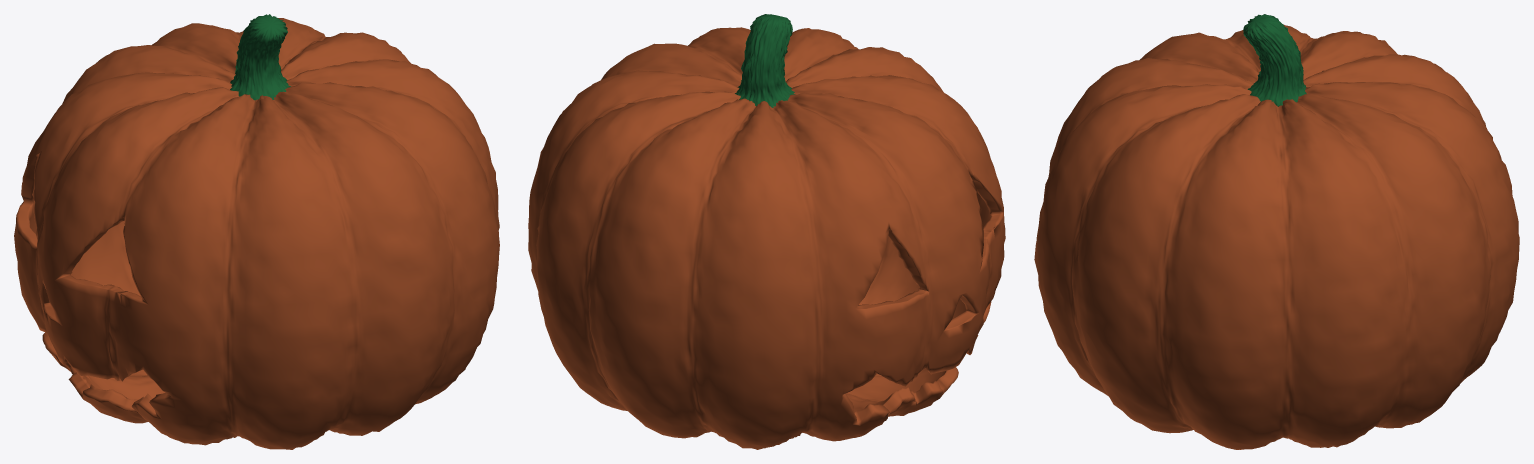
Rendered from pumpkin1K.fbx.
The picture shows the model from 3 angles, left to right: view 1: azimuth 30°, elevation 25°; view 2: azimuth 150°, elevation 25°; view 3: azimuth 270°, elevation 25°; orthographic projection. The views are drawn at different scales.
Visible parts, largest first — view 1: Sphere.001, Cylinder; view 2: Sphere.001, Cylinder; view 3: Sphere.001, Cylinder.
Part boxes in pixels (bbox=[...]): Sphere.001: bbox=[14, 18, 499, 449]; Cylinder: bbox=[230, 14, 290, 100]; Sphere.001: bbox=[528, 27, 1005, 449]; Cylinder: bbox=[735, 14, 795, 107]; Sphere.001: bbox=[1034, 24, 1519, 449]; Cylinder: bbox=[1243, 14, 1306, 106].
Size of the model in its own units: 196 by 167 by 197.
